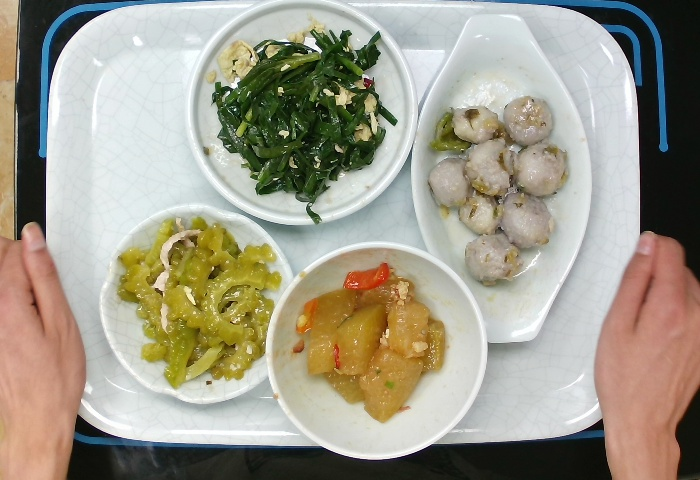JYsf-Ao_Yuan_Wan: (98, 199, 298, 410)
JYsf-Fan_Wan: (265, 238, 490, 460)
JYsf-Xiao_Yuan_Pan: (182, 2, 419, 229)
JYsf-Yu_Pan: (412, 10, 595, 346)
